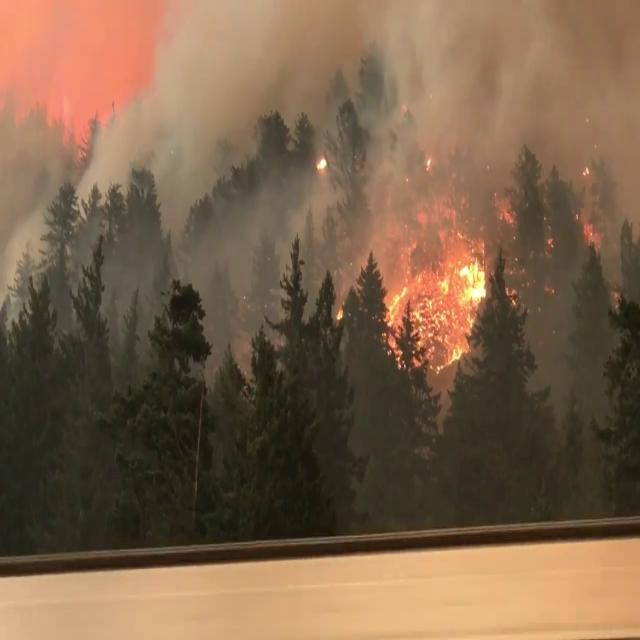Fire: (379, 189, 519, 375), (582, 218, 604, 250), (316, 156, 328, 170)
Smoke: (0, 1, 640, 441)
